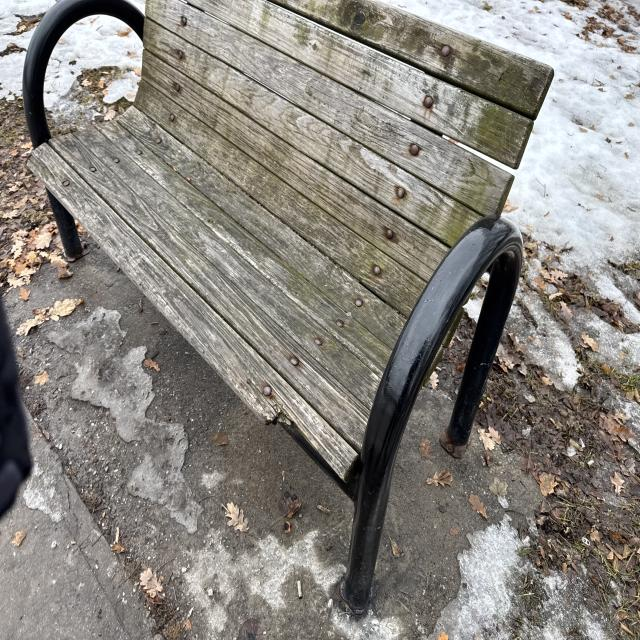Bench: (66, 3, 555, 575)
